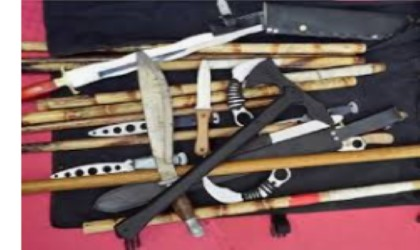baston_e: (98, 184, 409, 240), (33, 151, 407, 195), (44, 82, 351, 124), (34, 117, 273, 159), (31, 54, 356, 75), (46, 72, 231, 107), (24, 39, 359, 54)
baston_v: (78, 213, 98, 239), (14, 173, 31, 197), (369, 59, 391, 75), (13, 138, 30, 156), (17, 110, 31, 126), (17, 36, 29, 54), (359, 38, 373, 53), (18, 59, 30, 76), (354, 53, 368, 66), (347, 74, 360, 87), (32, 96, 43, 111), (17, 123, 29, 135)
